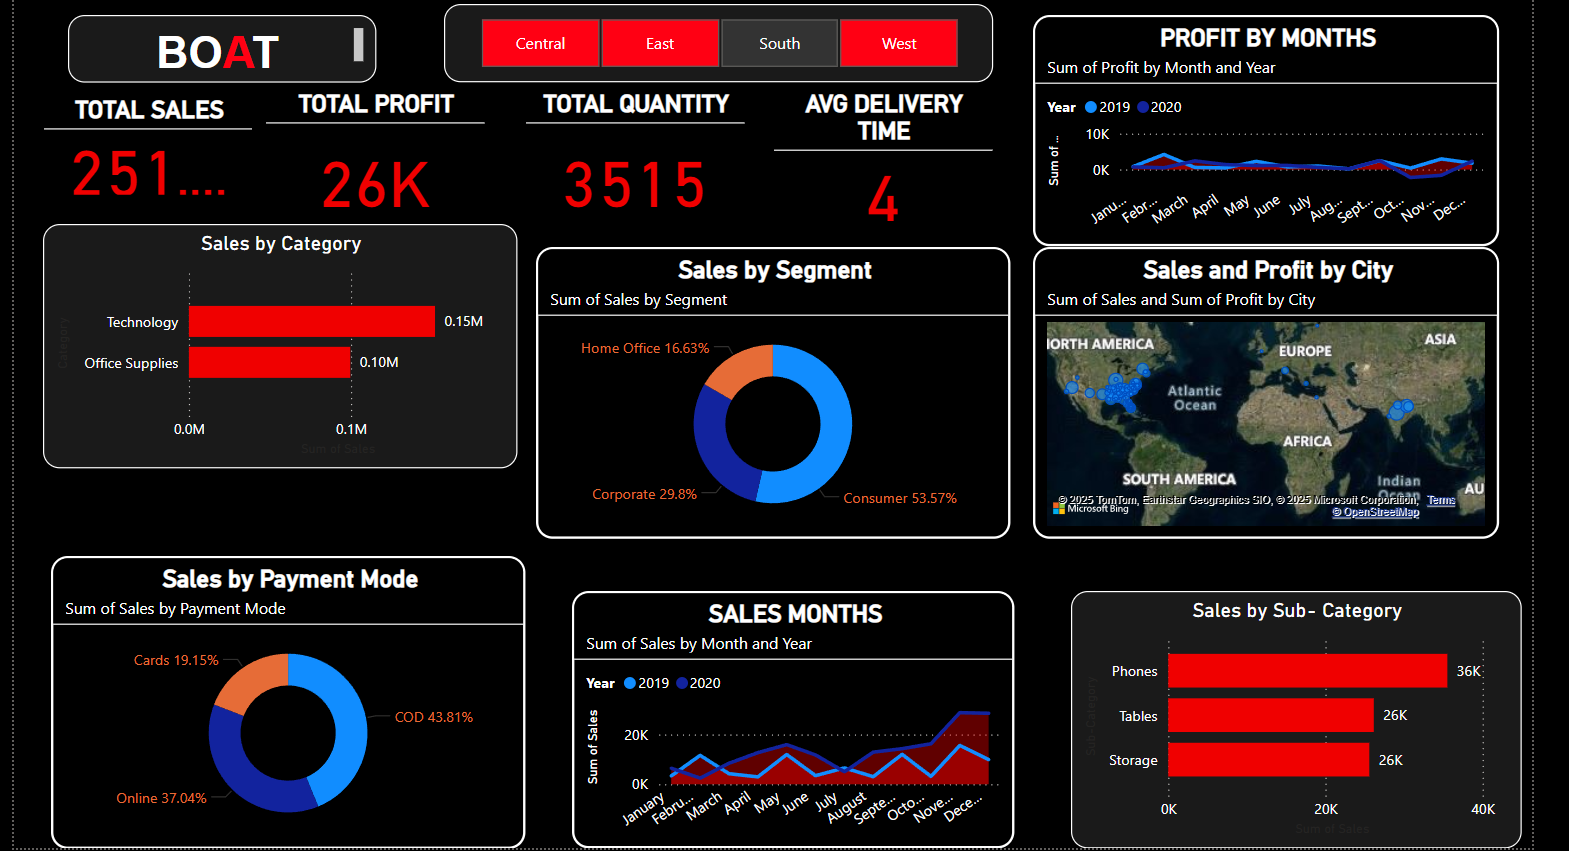

What the dashboard file says about the page in this screenshot:
{"tool":"powerbi","page":{"name":"Page 1","canvas":[1280,720],"ordinal":0},"visuals":[{"type":"card","title":"TOTAL SALES","fields":{"Values":["Sum(Sheet1.Sales)"]},"box":[24.6,79.1,177.4,100.4],"z":0},{"type":"card","title":"TOTAL PROFIT","fields":{"Values":["Sum(Sheet1.Profit)"]},"box":[212,74.6,185.5,128.6],"z":1000},{"type":"card","title":"TOTAL QUANTITY","fields":{"Values":["Sum(Sheet1.Quantity)"]},"box":[430.9,74.6,185.5,128.6],"z":2000},{"type":"card","title":"AVG DELIVERY TIME","fields":{"Values":["Avg(Sheet1.AvgDeliveryTime)"]},"box":[640,74.6,185.5,128.6],"z":3000},{"type":"areaChart","title":"PROFIT BY MONTHS","fields":{"Category":["Sheet1.Order Date.Variation.Date Hierarchy.Month"],"Y":["Sum(Sheet1.Profit)"],"Series":["Sheet1.Order Date.Variation.Date Hierarchy.Year"]},"box":[858.9,17.7,392.6,195.3],"z":4000},{"type":"clusteredBarChart","title":"Sales by Category","fields":{"Category":["Sheet1.Category"],"Y":["Sum(Sheet1.Sales)"]},"box":[24.2,193.6,399.8,206.2],"z":5000},{"type":"clusteredBarChart","title":"Sales by Sub- Category","fields":{"Y":["Sum(Sheet1.Sales)"],"Category":["Sheet1.Sub-Category"]},"box":[891.3,503.6,379.9,216.9],"z":6000},{"type":"areaChart","title":"SALES MONTHS","fields":{"Category":["Sheet1.Order Date.Variation.Date Hierarchy.Month"],"Series":["Sheet1.Order Date.Variation.Date Hierarchy.Year"],"Y":["Sum(Sheet1.Sales)"]},"box":[470.2,503.6,373,216.9],"z":7000},{"type":"donutChart","title":"Sales by Payment Mode","fields":{"Y":["Sum(Sheet1.Sales)"],"Category":["Sheet1.Payment Mode"]},"box":[31.1,473.5,399.8,246.6],"z":8000},{"type":"donutChart","title":"Sales by Segment","fields":{"Category":["Sheet1.Segment"],"Y":["Sum(Sheet1.Sales)"]},"box":[439.8,213,399.5,246.4],"z":9000},{"type":"map","title":" Sales and Profit by City","fields":{"Category":["Sheet1.City"],"Size":["Sum(Sheet1.Sales)"]},"box":[859,213,393,246],"z":10000},{"type":"slicer","fields":{"Values":["Sheet1.Region"]},"box":[362.2,8.8,463.3,65.8],"z":11000},{"type":"textbox","box":[45.2,17.7,260.1,56.9],"z":12000}]}

Visuals, with their boxes on the page's 1280x720 design canvas (x1, y1, x2, y2). These are canvas units, not pixel positions in the 1569x851 screenshot, which may show the page scaled, cropped or inside an application window:
"TOTAL SALES" card: 25:79:202:180
"TOTAL PROFIT" card: 212:75:398:203
"TOTAL QUANTITY" card: 431:75:616:203
"AVG DELIVERY TIME" card: 640:75:826:203
"PROFIT BY MONTHS" areaChart: 859:18:1252:213
"Sales by Category" clusteredBarChart: 24:194:424:400
"Sales by Sub- Category" clusteredBarChart: 891:504:1271:720
"SALES MONTHS" areaChart: 470:504:843:720
"Sales by Payment Mode" donutChart: 31:474:431:720
"Sales by Segment" donutChart: 440:213:839:459
" Sales and Profit by City" map: 859:213:1252:459
slicer - Sheet1.Region: 362:9:826:75
textbox: 45:18:305:75
